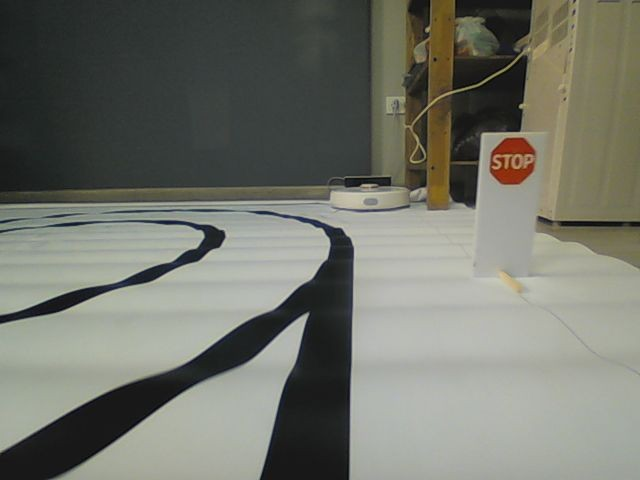Stop: (487, 135, 536, 186)
